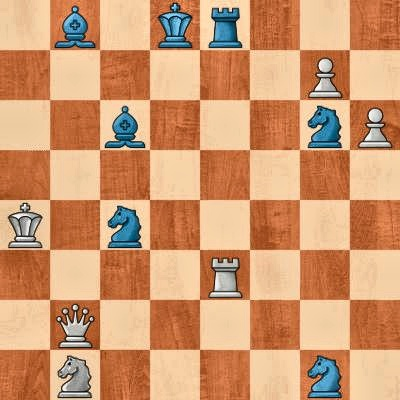black-bishop: (50, 0, 100, 50), (100, 100, 150, 150)
black-king: (150, 0, 200, 50)
black-knight: (300, 100, 350, 150), (100, 200, 150, 250), (300, 350, 350, 400)
black-rook: (200, 0, 250, 50)
white-king: (0, 200, 50, 250)
white-knight: (50, 350, 100, 400)
white-pawn: (300, 50, 350, 100), (350, 100, 400, 150)
white-queen: (50, 300, 100, 350)
white-rook: (200, 250, 250, 300)
